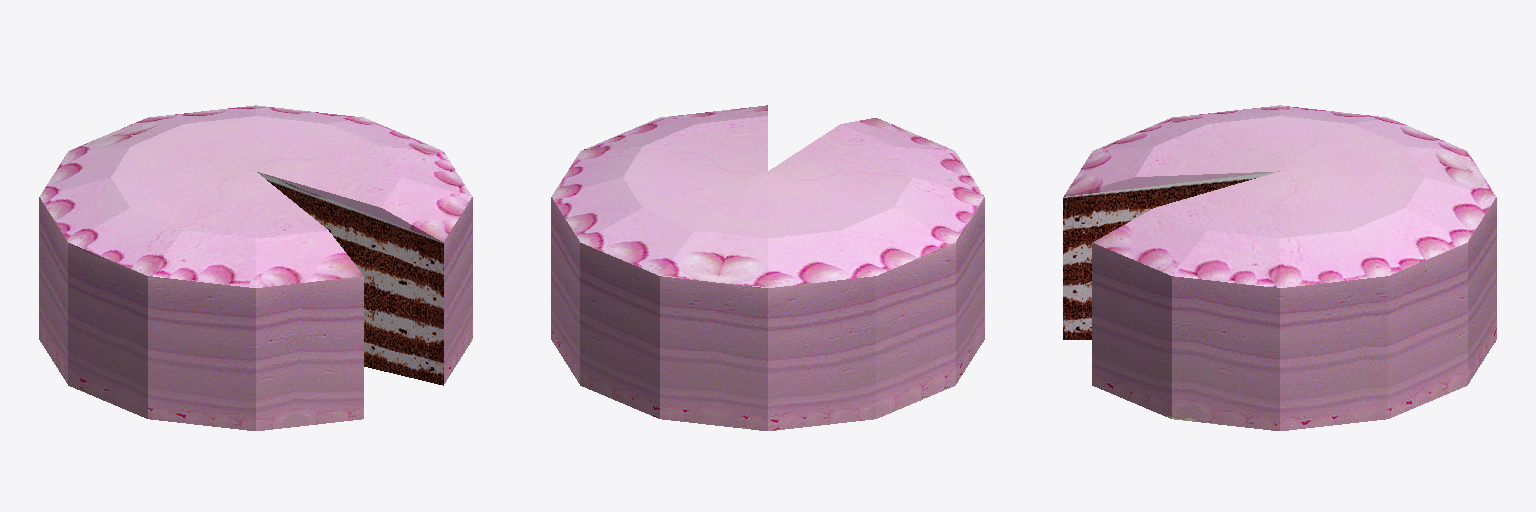
3 views of the same model, side by side, from view 1: azimuth 30°, elevation 25°; view 2: azimuth 150°, elevation 25°; view 3: azimuth 270°, elevation 25° (orthographic).
Visible parts, largest first — view 1: Cylinder; view 2: Cylinder; view 3: Cylinder.
Part boxes in pixels (x1,y1,x2,y2): Cylinder: (39,105,472,430); Cylinder: (551,105,984,430); Cylinder: (1063,105,1496,430).
Bounding box in the file's own units: 2 × 0.8622 × 2.
1 materials, 1 textured.